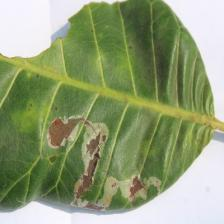leaf miner: (0, 0, 223, 213)
